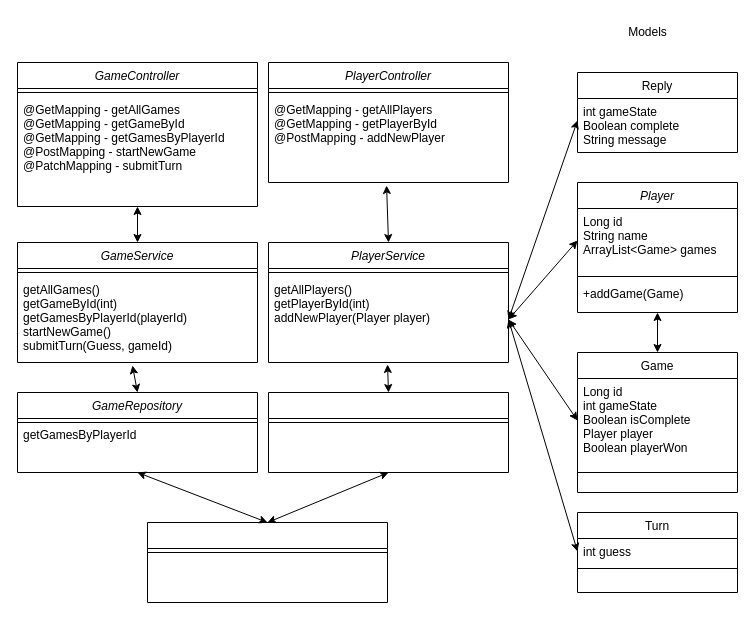
The diagram is 755 pixels wide and 620 high, and some of its shapes have lost their labels. The centre of each missing label's shape, as x and y in pixels:
DataBase: [267,562]
PlayerRepository: [388,432]
